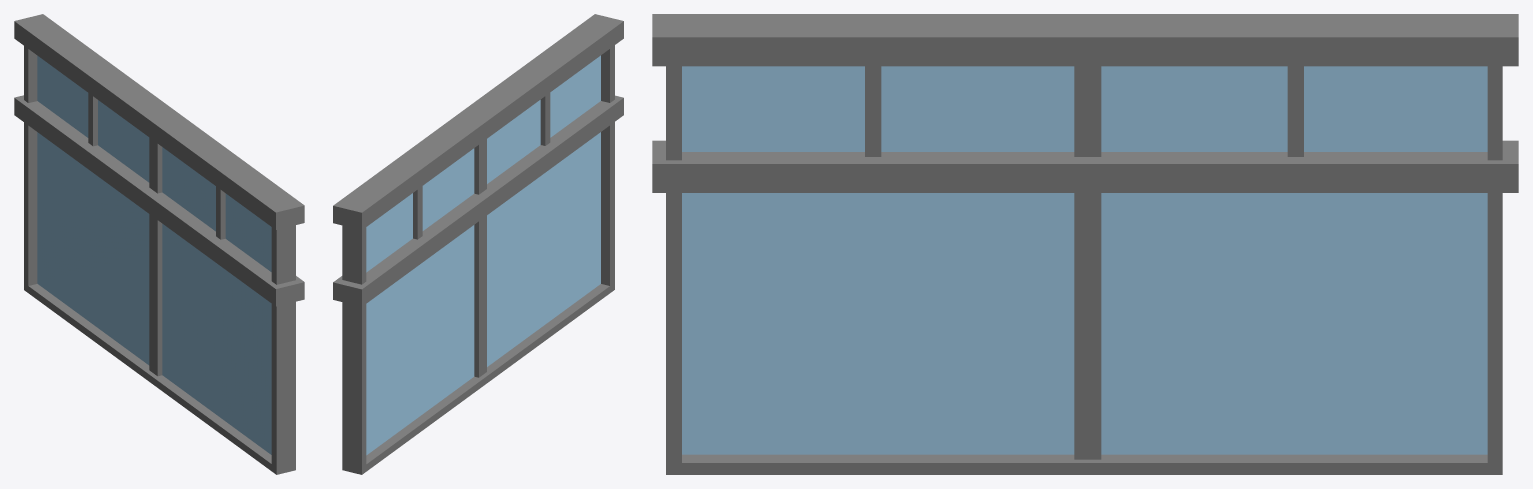
The model's file is bigWindow.fbx.
3 renders of one model, left to right at view 1: azimuth 30°, elevation 25°; view 2: azimuth 150°, elevation 25°; view 3: azimuth 270°, elevation 25°, orthographic. The views are drawn at different scales.
Parts seen in each view (by area): view 1: glass, guard.001, window border, guard.002, vertical guard, vertical guard.001, vertical guard.002; view 2: glass, guard.001, window border, guard.002, vertical guard, vertical guard.002, vertical guard.001; view 3: glass, guard.001, guard.002, window border, vertical guard, vertical guard.001, vertical guard.002.
Boxes of the visible parts, left/top/right/bottom form: glass: left=37, top=55, right=271, bottom=454; guard.001: left=14, top=14, right=304, bottom=229; window border: left=24, top=46, right=295, bottom=474; guard.002: left=14, top=95, right=304, bottom=306; vertical guard: left=149, top=137, right=162, bottom=376; vertical guard.001: left=88, top=93, right=97, bottom=146; vertical guard.002: left=216, top=186, right=225, bottom=239; glass: left=366, top=55, right=600, bottom=455; guard.001: left=333, top=14, right=623, bottom=229; window border: left=342, top=45, right=614, bottom=474; guard.002: left=333, top=95, right=623, bottom=306; vertical guard: left=474, top=139, right=486, bottom=377; vertical guard.002: left=540, top=93, right=550, bottom=145; vertical guard.001: left=413, top=186, right=422, bottom=239; glass: left=682, top=66, right=1487, bottom=454; guard.001: left=652, top=14, right=1518, bottom=66; guard.002: left=652, top=140, right=1518, bottom=192; window border: left=666, top=66, right=1502, bottom=474; vertical guard: left=1074, top=66, right=1101, bottom=459; vertical guard.001: left=1287, top=66, right=1303, bottom=156; vertical guard.002: left=865, top=66, right=881, bottom=156.
Bounding box in the file's own units: 7095 × 12623 × 806.
